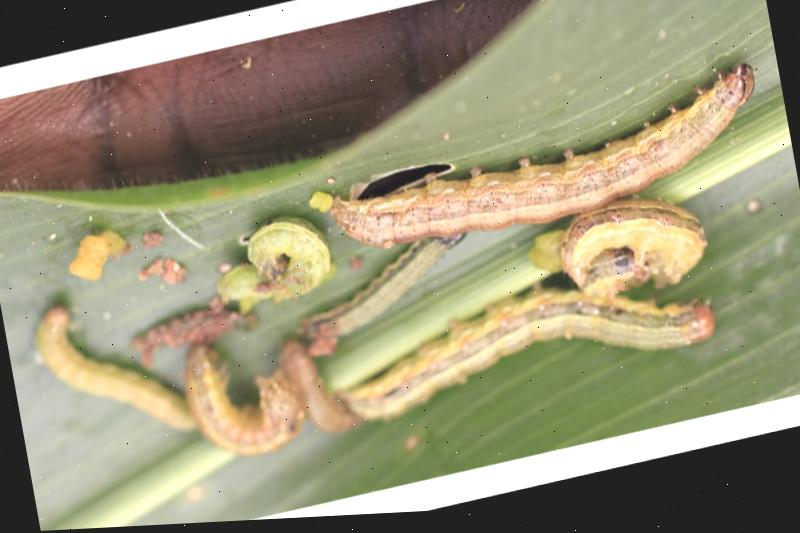fall-armyworm: (328, 70, 757, 252), (343, 287, 717, 427), (35, 306, 199, 431), (299, 226, 468, 344), (182, 343, 310, 458), (561, 205, 709, 295), (216, 217, 335, 304), (280, 341, 367, 436)
